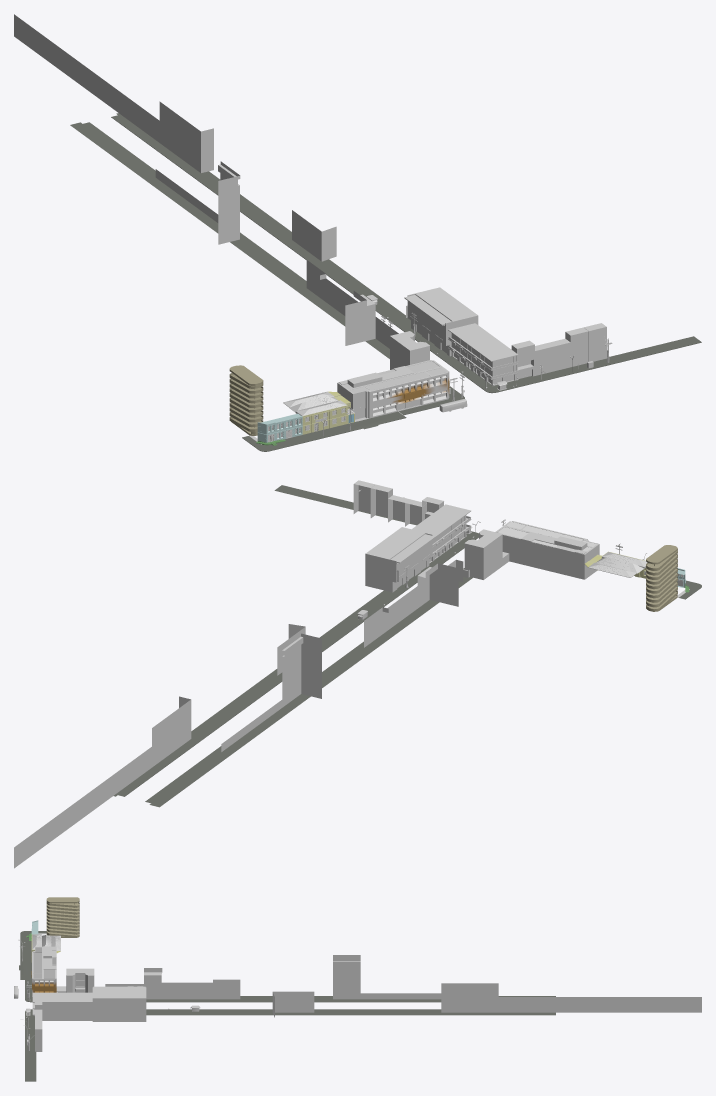
File: _Downtown_Manaus.fbx
The picture shows the model from 3 angles, top to bottom: view 1: azimuth 30°, elevation 25°; view 2: azimuth 150°, elevation 25°; view 3: azimuth 270°, elevation 25°; orthographic projection. The views are drawn at different scales.
Visible parts, largest first — view 1: sm_tudo; view 2: sm_tudo; view 3: sm_tudo.
Boxes of the visible parts, x1,y1,x2,y2 form: sm_tudo: (14, 14, 701, 451); sm_tudo: (14, 480, 701, 868); sm_tudo: (14, 897, 701, 1081).
Bounding box in the file's own units: 24563 × 3405 × 47411.
